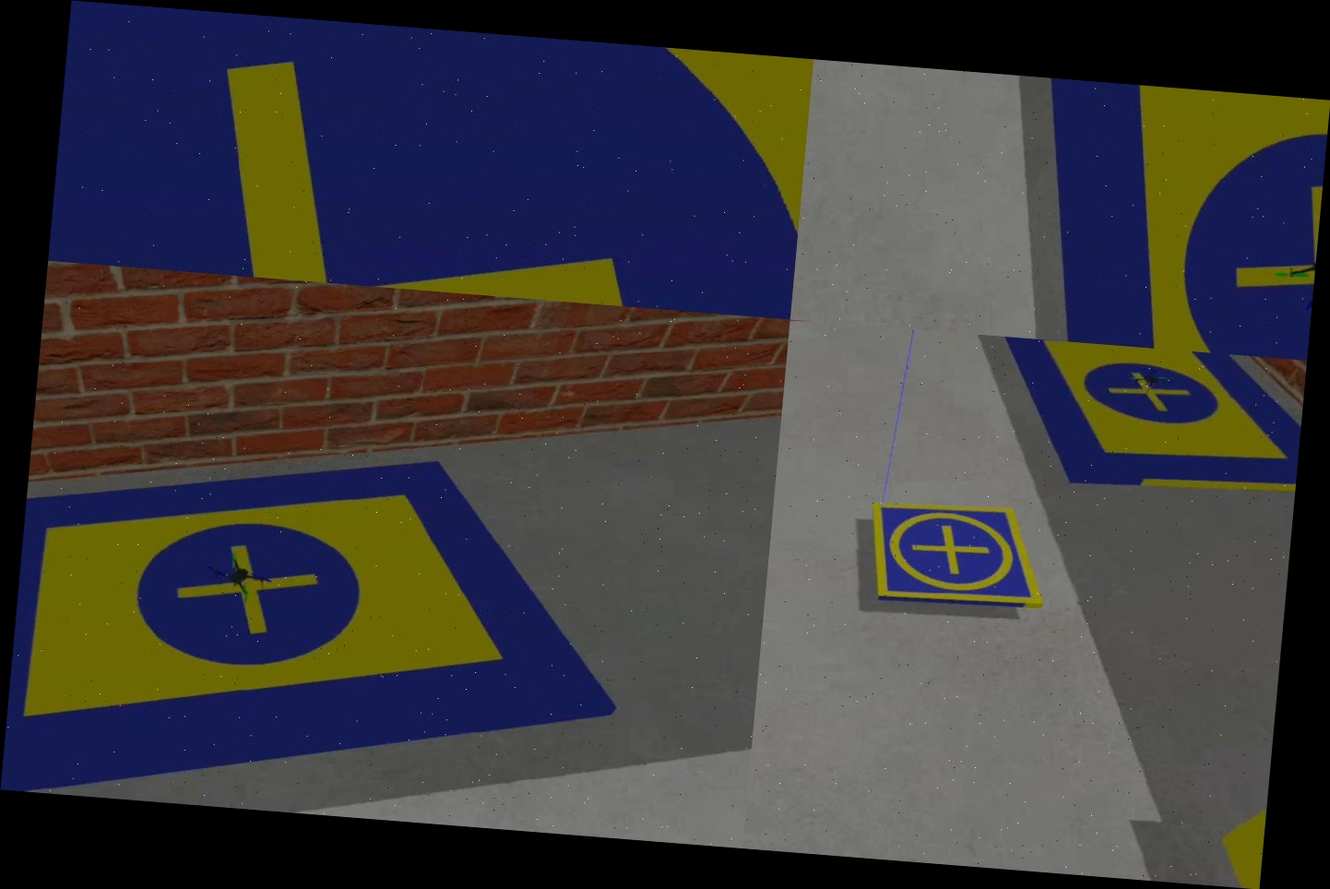large_base: (0, 409, 653, 838), (48, 0, 813, 320), (1001, 76, 1329, 361), (983, 336, 1306, 521)
small_base: (857, 484, 1053, 628)
